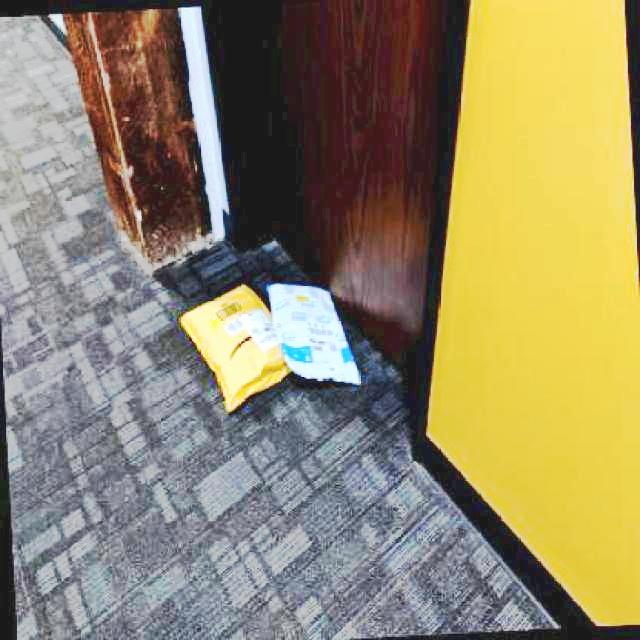Box: (170, 276, 295, 416), (263, 273, 363, 395)
